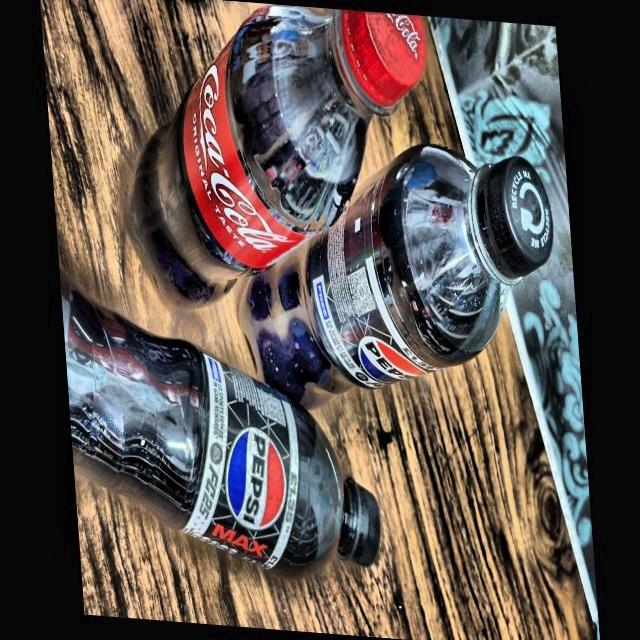coke-bottle: (150, 9, 420, 290)
pepsi-bottle: (60, 283, 385, 581), (240, 152, 550, 398)
